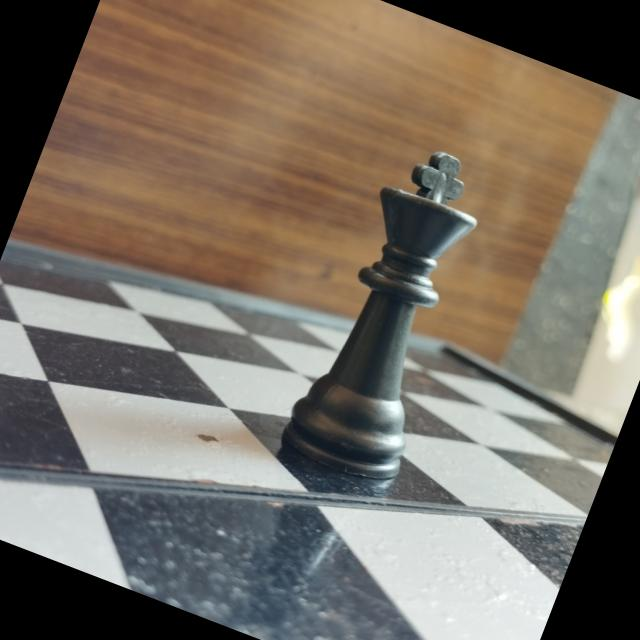Black King: (263, 120, 532, 510)
